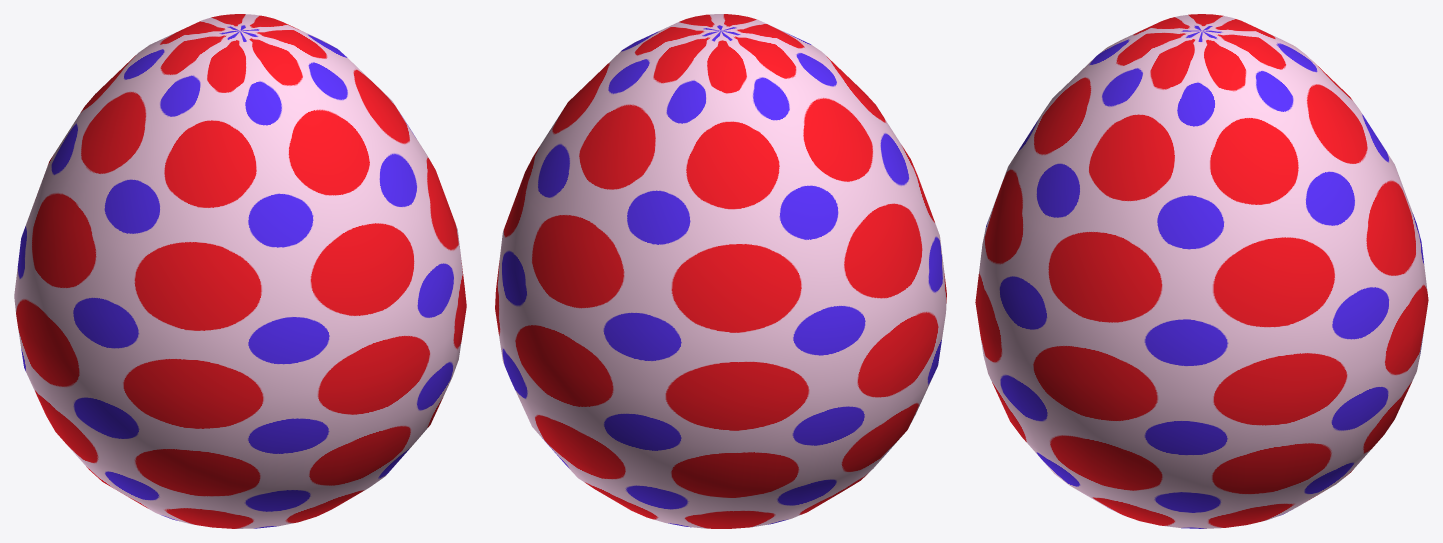
The model's file is Big Dots.gltf.
3 renders of one model, left to right at view 1: azimuth 30°, elevation 25°; view 2: azimuth 150°, elevation 25°; view 3: azimuth 270°, elevation 25°, orthographic.
Parts seen in each view (by area): view 1: EGG; view 2: EGG; view 3: EGG.
Boxes of the visible parts, x1,y1,x2,y2 form: EGG: [14, 14, 466, 528]; EGG: [495, 14, 946, 528]; EGG: [975, 14, 1428, 528].
Bounding box in the file's own units: 1.97 × 2.29 × 1.97.
1 material, 1 textured.
